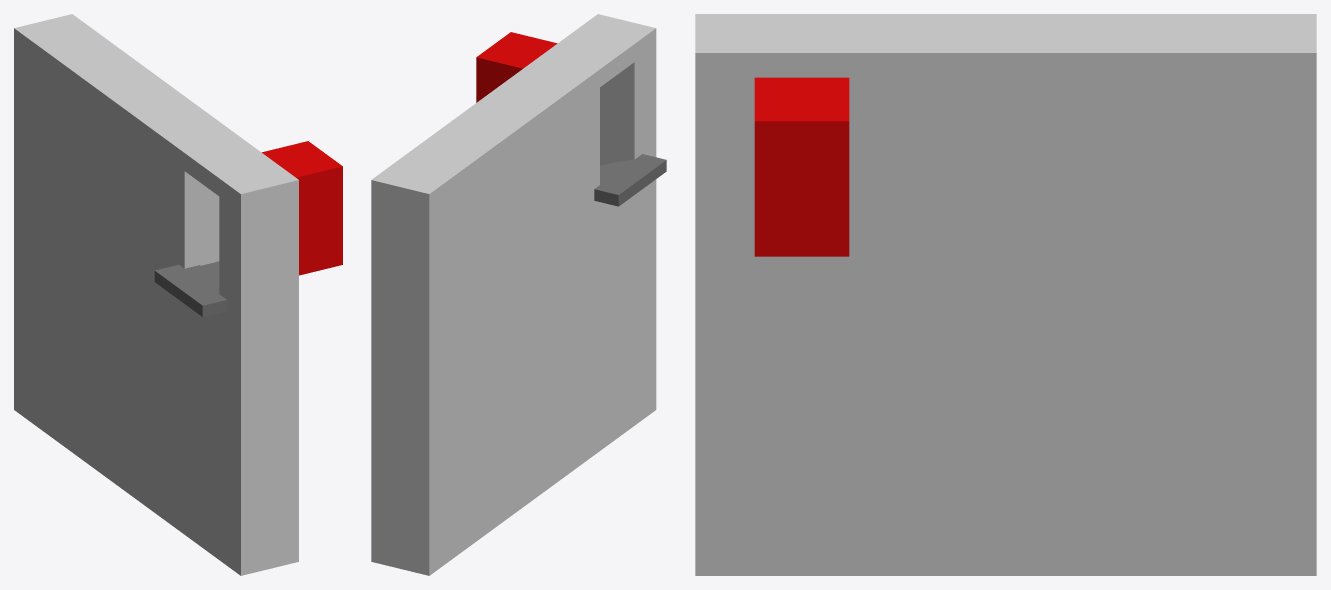
File: backdrop.fbx
The picture shows the model from 3 angles, left to right: view 1: azimuth 30°, elevation 25°; view 2: azimuth 150°, elevation 25°; view 3: azimuth 270°, elevation 25°; orthographic projection. The views are drawn at different scales.
Visible parts, largest first — view 1: Cube.002, Cube.001; view 2: Cube.002, Cube.001; view 3: Cube.002, Cube.001.
Boxes of the visible parts, x1=… form: Cube.002: x1=14, y1=14, x2=298, y2=575; Cube.001: x1=262, y1=141, x2=342, y2=275; Cube.002: x1=371, y1=14, x2=666, y2=575; Cube.001: x1=476, y1=32, x2=557, y2=102; Cube.002: x1=695, y1=14, x2=1316, y2=575; Cube.001: x1=754, y1=77, x2=849, y2=256.
Size of the model in its own units: 718 by 1772 by 1907.
